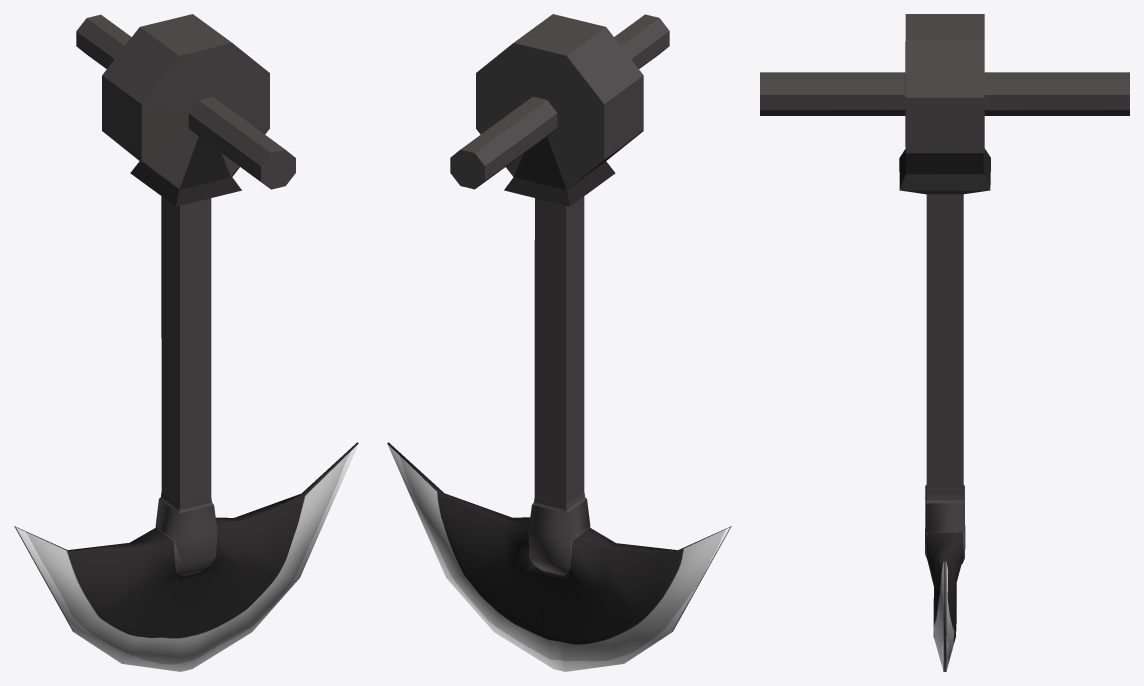
File: Blade_Pendelum_Basement_Floor_Unwrapped.FBX
The picture shows the model from 3 angles, left to right: view 1: azimuth 30°, elevation 25°; view 2: azimuth 150°, elevation 25°; view 3: azimuth 270°, elevation 25°; orthographic projection.
Parts seen in each view (by area): view 1: Blade_Pendelum_Basement_Floor; view 2: Blade_Pendelum_Basement_Floor; view 3: Blade_Pendelum_Basement_Floor.
Boxes of the visible parts, <box> form: Blade_Pendelum_Basement_Floor: <box>14,14,358,671</box>; Blade_Pendelum_Basement_Floor: <box>387,14,731,671</box>; Blade_Pendelum_Basement_Floor: <box>760,14,1129,671</box>.
Bounding box in the file's own units: 1.53 × 2.7 × 1.42.
